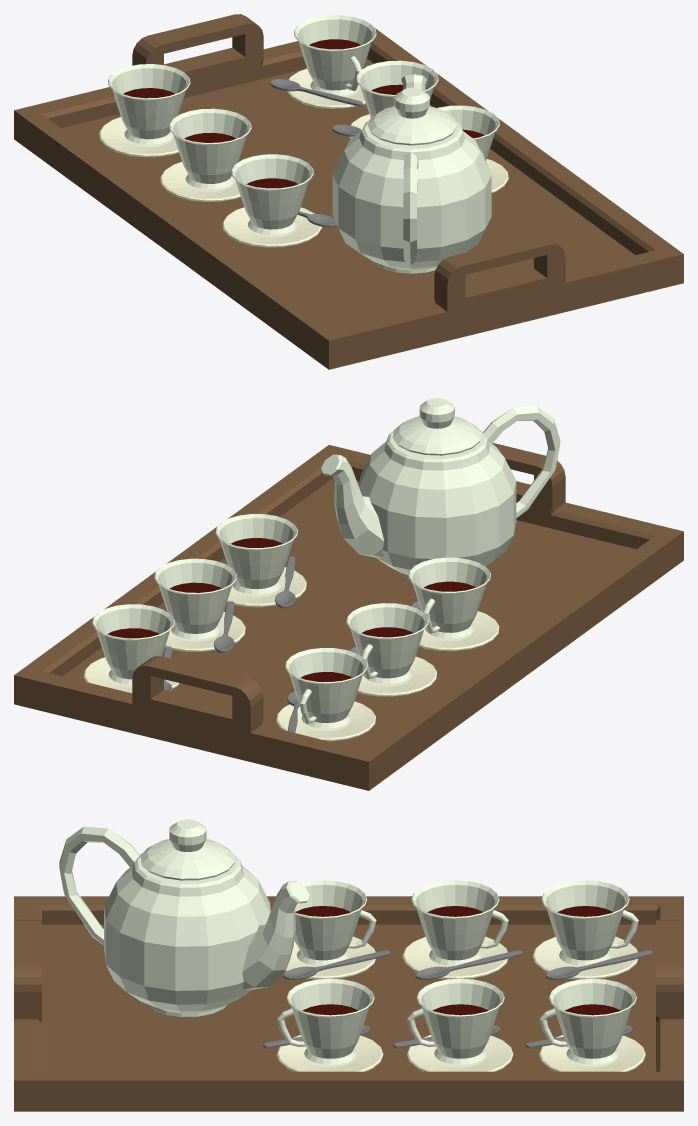
File: Tea Set.fbx
The picture shows the model from 3 angles, top to bottom: view 1: azimuth 30°, elevation 25°; view 2: azimuth 150°, elevation 25°; view 3: azimuth 270°, elevation 25°; orthographic projection. The views are drawn at different scales.
Parts seen in each view (by area): view 1: Cylinder.001; view 2: Cylinder.001; view 3: Cylinder.001.
Part boxes in pixels (bbox=[...]): Cylinder.001: bbox=[14, 14, 683, 369]; Cylinder.001: bbox=[14, 398, 683, 790]; Cylinder.001: bbox=[14, 819, 683, 1111].
Bounding box in the file's own units: 10.22 × 4.89 × 15.71.
